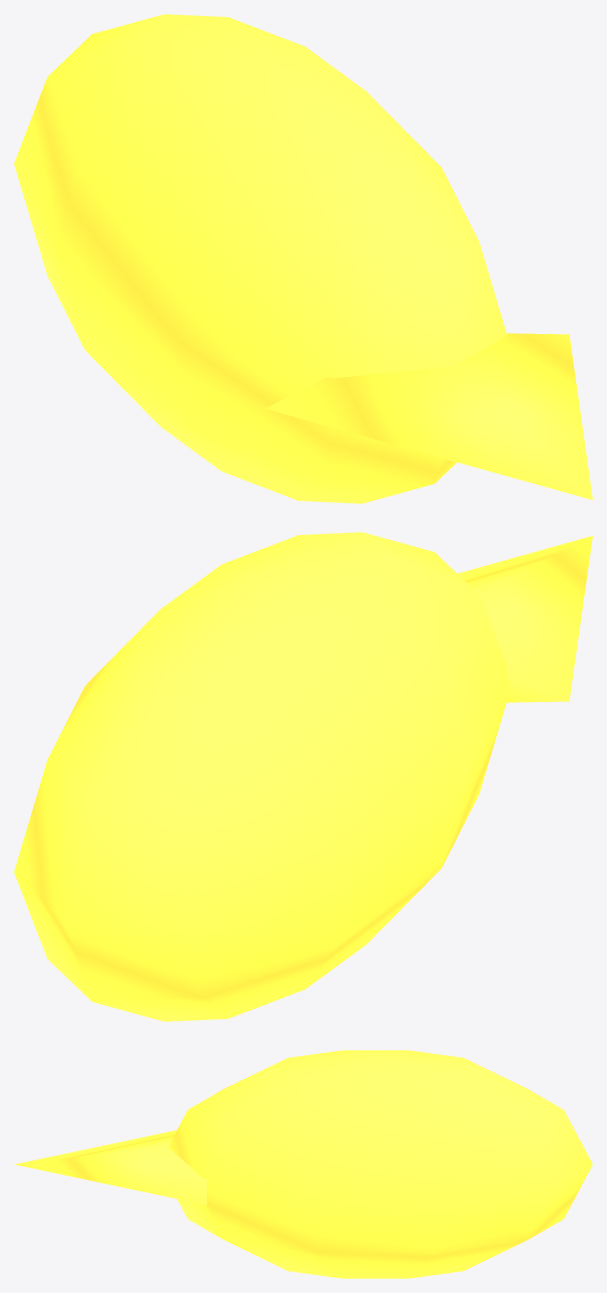
File: pet_fish.glb
3 renders of one model, top to bottom at view 1: azimuth 30°, elevation 25°; view 2: azimuth 150°, elevation 25°; view 3: azimuth 270°, elevation 25°, orthographic. The views are drawn at different scales.
Parts seen in each view (by area): view 1: pet_fish; view 2: pet_fish; view 3: pet_fish.
Boxes of the visible parts, box(x1,y1,x2,y2) form: pet_fish: box(14, 14, 592, 503); pet_fish: box(14, 532, 592, 1021); pet_fish: box(14, 1050, 592, 1278).
Bounding box in the file's own units: 0.16 × 0.2 × 0.48.
